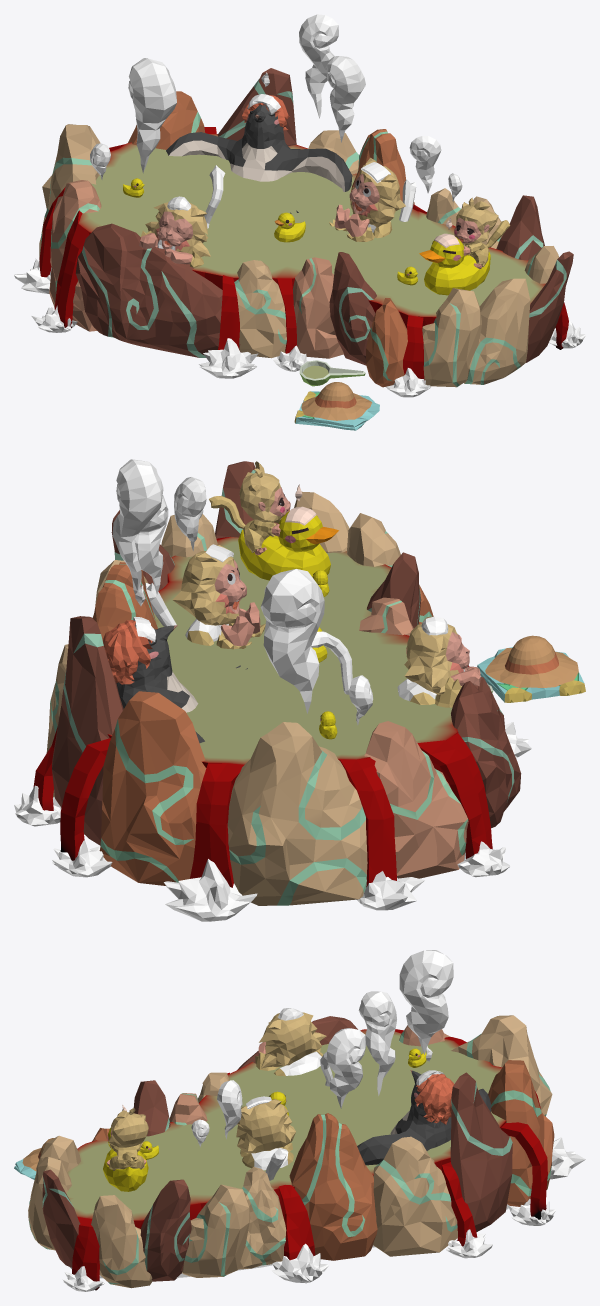
File: 0057_vapenSpa.fbx
3 views of the same model, one above another, from view 1: azimuth 30°, elevation 25°; view 2: azimuth 150°, elevation 25°; view 3: azimuth 270°, elevation 25° (orthographic). The views are drawn at different scales.
Parts seen in each view (by area): view 1: [water]Spring_Water, Spring_Stone03, Steam02 (×2), Spring_Stone09 (×2), Vapen_Body, Spring_Stone11, Spring_Stone02, Spring_Stone01, Spring_Stone10, Spring_Stone04, Spring_Stone12, B_Monkey_RubberDuck (+26 smaller); view 2: [water]Spring_Water, Spring_Stone056, Spring_Stone06, Spring_Stone04, Spring_Stone07, Steam02 (×2), Spring_Stone03, B_Monkey_RubberDuck, Y_Monkey_Head, Vapen_Head, Steam01, Spring_Stone09 (×2) (+24 smaller); view 3: [water]Spring_Water, Spring_Stone08, Spring_Stone022, Spring_Stone07, Steam02 (×2), Spring_Stone09 (×2), Spring_Stone091, Spring_Stone06, Spring_Stone13, Spring_Stone05, Spring_Stone056, Y_Monkey_Head (+22 smaller).
Boxes of the visible parts, x1,y1,x2,y2 form: [water]Spring_Water: [39, 127, 568, 380]; Spring_Stone03: [75, 223, 241, 357]; Steam02 (×2): [128, 56, 365, 173]; Spring_Stone09 (×2): [422, 246, 558, 387]; Vapen_Body: [166, 132, 352, 213]; Spring_Stone11: [464, 278, 530, 384]; Spring_Stone02: [234, 260, 286, 358]; Spring_Stone01: [292, 257, 343, 358]; Spring_Stone10: [329, 252, 376, 365]; Spring_Stone04: [49, 180, 101, 331]; Spring_Stone12: [366, 298, 407, 387]; B_Monkey_RubberDuck: [419, 218, 490, 295]; [water]Spring_Water: [33, 536, 492, 887]; Spring_Stone056: [227, 722, 367, 905]; Spring_Stone06: [99, 691, 206, 885]; Spring_Stone04: [364, 721, 468, 878]; Spring_Stone07: [52, 616, 123, 845]; Steam02 (×2): [134, 495, 324, 713]; Spring_Stone03: [451, 677, 521, 828]; B_Monkey_RubberDuck: [238, 484, 338, 580]; Y_Monkey_Head: [172, 545, 246, 625]; Vapen_Head: [103, 620, 177, 698]; Steam01: [112, 459, 163, 594]; Spring_Stone09 (×2): [161, 513, 400, 567]; [water]Spring_Water: [66, 1029, 547, 1290]; Spring_Stone08: [289, 1113, 377, 1260]; Spring_Stone022: [373, 1136, 457, 1256]; Spring_Stone07: [450, 1072, 512, 1232]; Steam02 (×2): [327, 950, 453, 1108]; Spring_Stone09 (×2): [36, 1135, 152, 1288]; Spring_Stone091: [182, 1184, 250, 1277]; Spring_Stone06: [488, 1060, 554, 1206]; Spring_Stone13: [140, 1179, 191, 1281]; Spring_Stone05: [238, 1167, 286, 1269]; Spring_Stone056: [451, 1015, 552, 1116]; Y_Monkey_Head: [236, 1099, 295, 1153].
Bounding box in the file's own units: 8.28 × 4.88 × 10.18.
